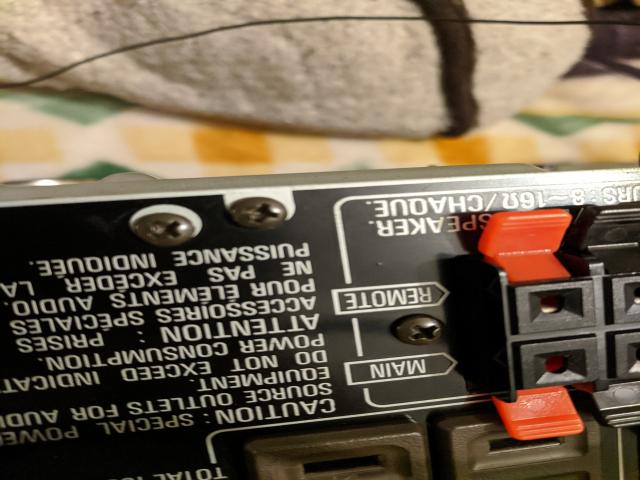CRS: (134, 213, 198, 248), (229, 197, 293, 232), (392, 314, 445, 344)
